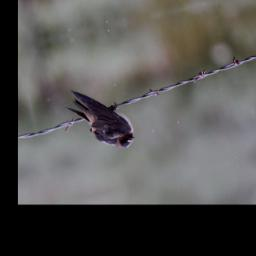Swallow: (61, 78, 138, 161)
